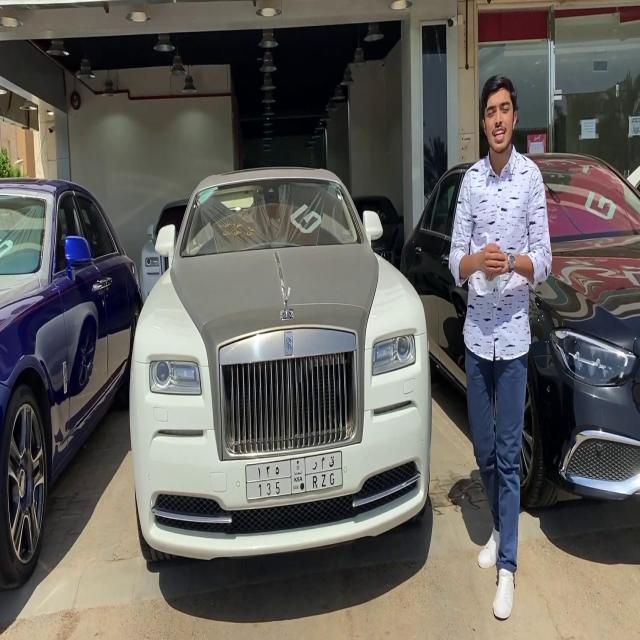license_plate: (241, 452, 343, 504)
